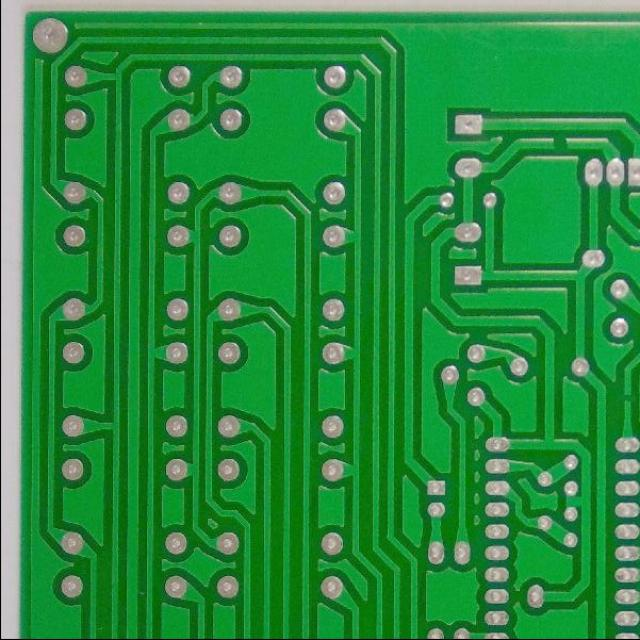open_circuit: (545, 134, 575, 154), (616, 388, 636, 409)
